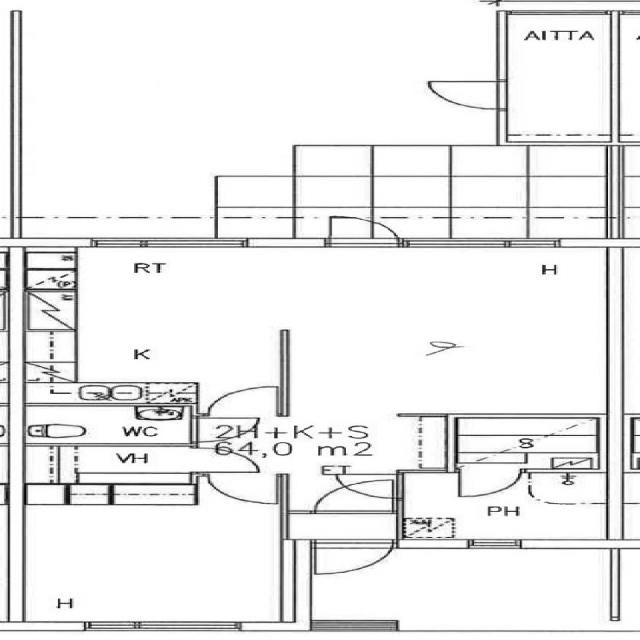door: (316, 540, 392, 578), (314, 480, 392, 514), (330, 211, 399, 247), (428, 82, 507, 109), (208, 473, 276, 504), (208, 386, 278, 416), (460, 469, 521, 496), (191, 448, 259, 472), (191, 418, 259, 442), (336, 474, 403, 498)
